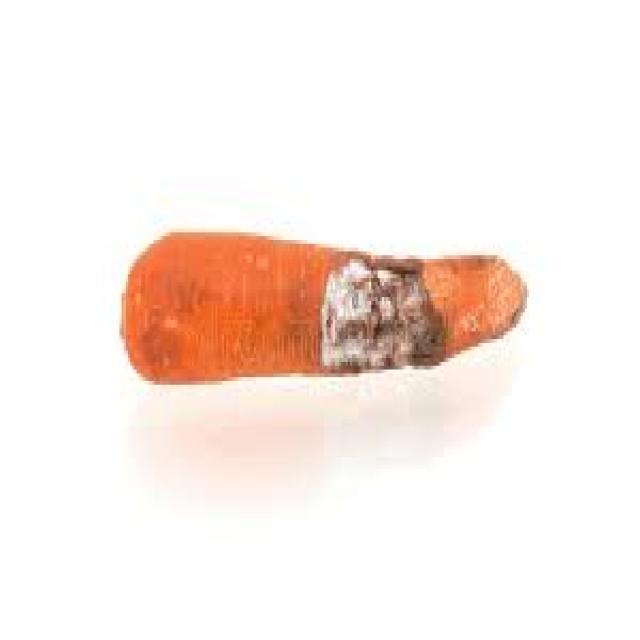Stale_Carrot: (122, 220, 536, 384)
